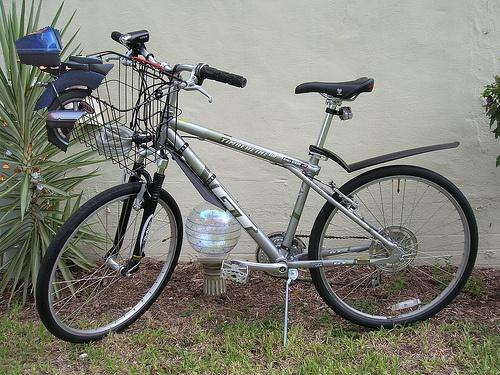tampered: (16, 27, 114, 153)
